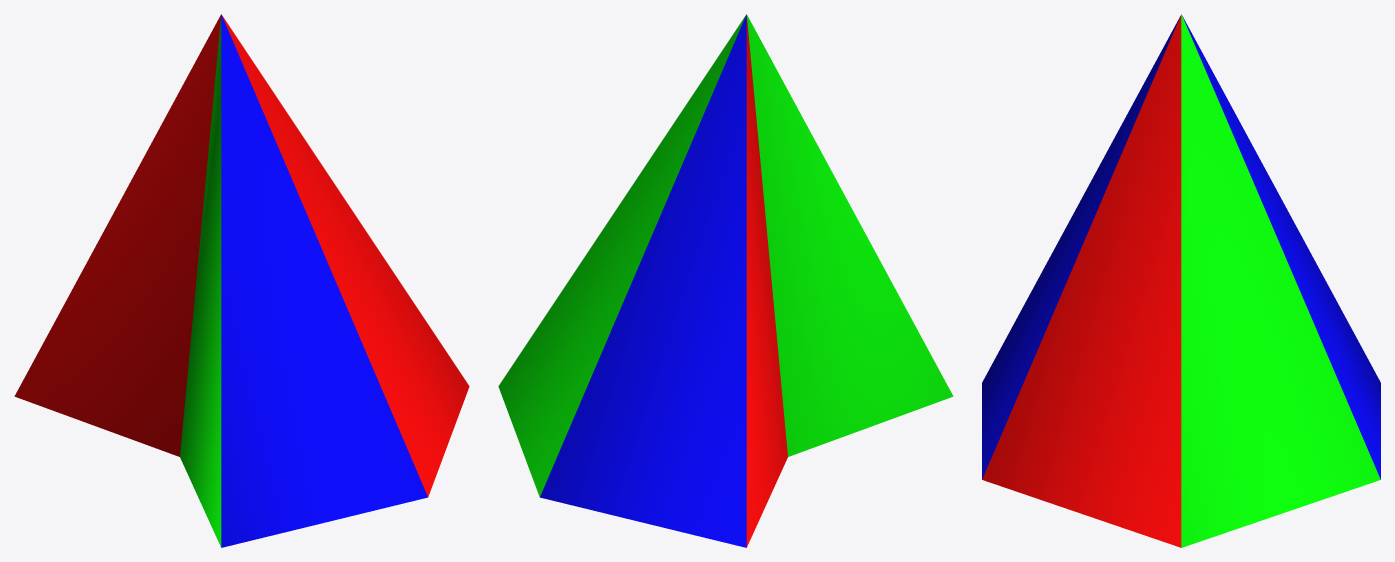
3 views of the same model, side by side, from view 1: azimuth 30°, elevation 25°; view 2: azimuth 150°, elevation 25°; view 3: azimuth 270°, elevation 25° (orthographic). The views are drawn at different scales.
Parts seen in each view (by area): view 1: Cone001; view 2: Cone001; view 3: Cone001.
Part boxes in pixels (left/top/right/bottom): Cone001: left=14, top=14, right=469, bottom=547; Cone001: left=498, top=14, right=953, bottom=547; Cone001: left=982, top=14, right=1380, bottom=547.
Size of the model in its own units: 425 by 433 by 500.
